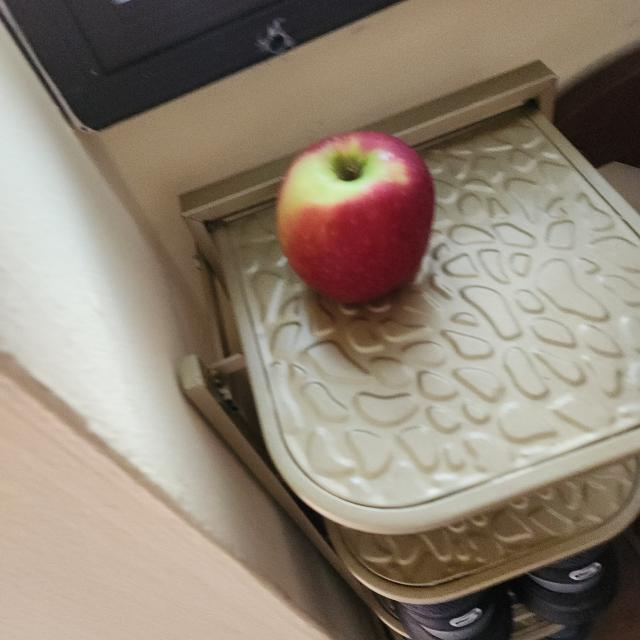apple: (267, 124, 443, 312)
